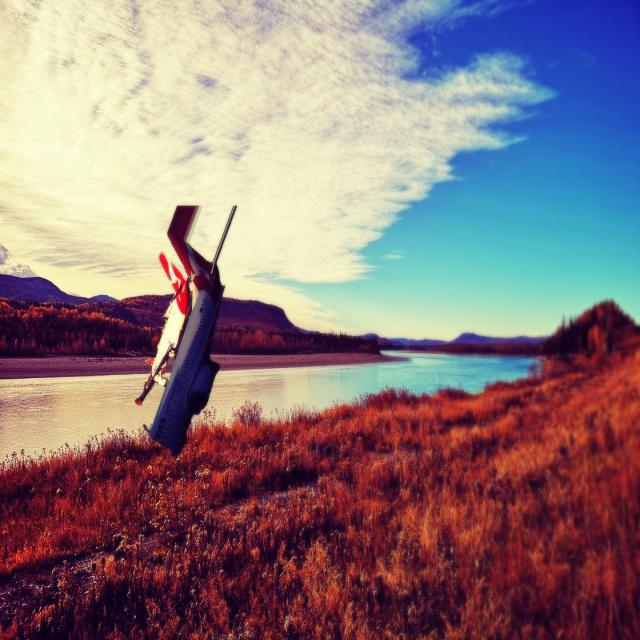airplane: (135, 202, 237, 456)
